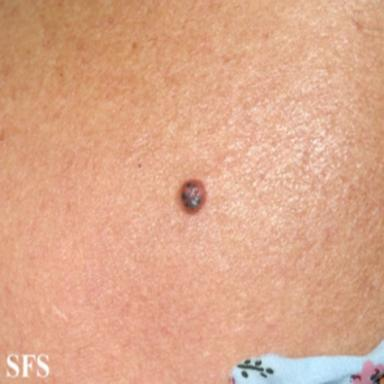basal-cell-carcinoma: (181, 180, 205, 212)
